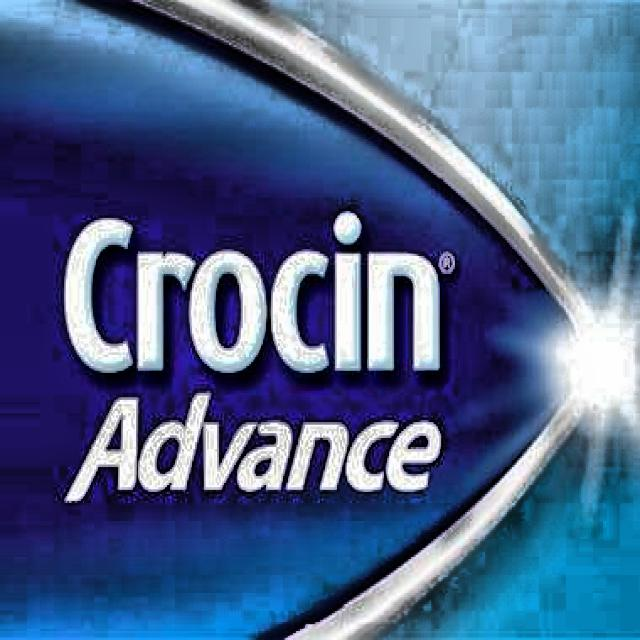Crocin: (35, 173, 564, 540)
